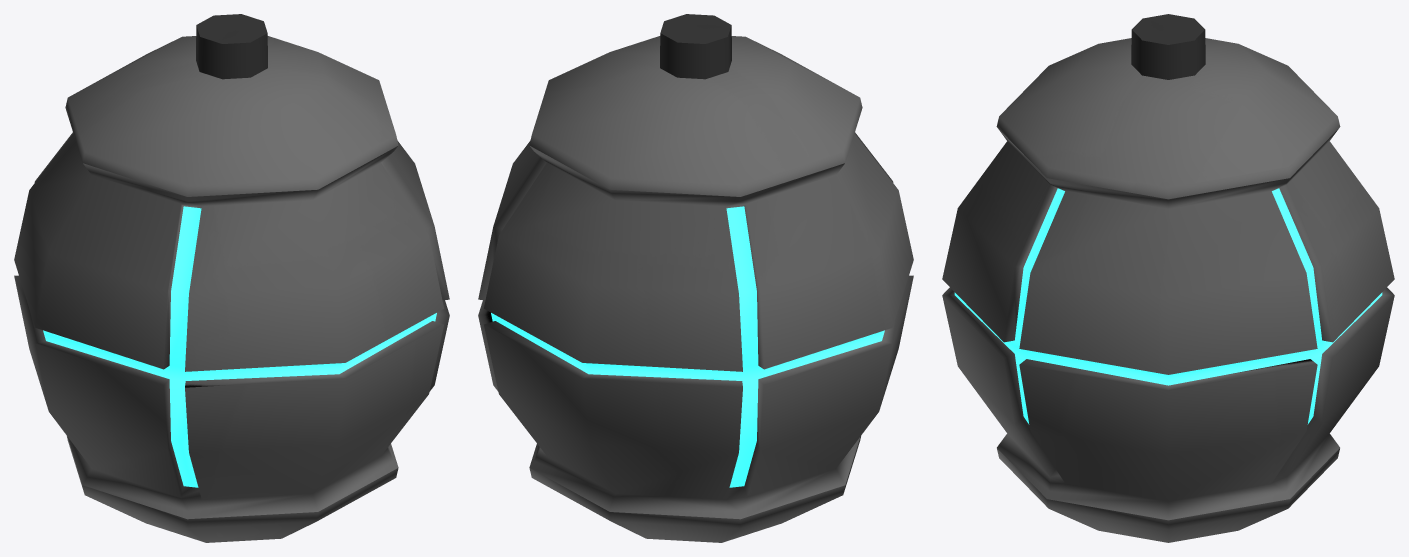
Rendered from Granade.fbx.
The picture shows the model from 3 angles, left to right: view 1: azimuth 30°, elevation 25°; view 2: azimuth 150°, elevation 25°; view 3: azimuth 270°, elevation 25°; orthographic projection.
Parts seen in each view (by area): view 1: pSphere1; view 2: pSphere1; view 3: pSphere1.
Part boxes in pixels (x1=…): pSphere1: x1=14, y1=14, x2=449, y2=542; pSphere1: x1=478, y1=14, x2=913, y2=542; pSphere1: x1=942, y1=14, x2=1394, y2=542.
Bounding box in the file's own units: 9.52 × 10.95 × 9.52.
